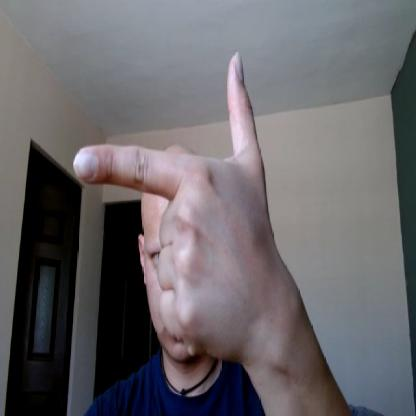G: (73, 51, 274, 355)
